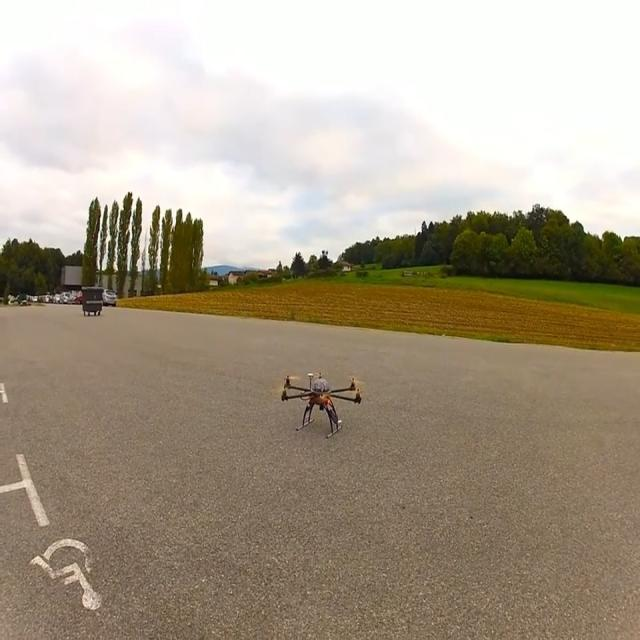drone: (280, 371, 363, 438)
